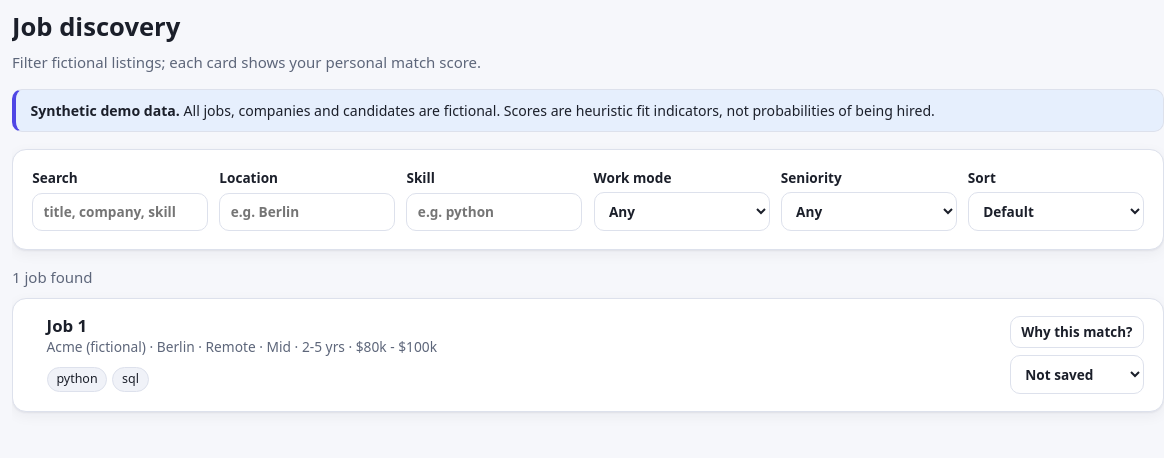
Jobs page › saves a job via the status menu (PUT) and rolls back on failure
Select "Applied" in the dropdown labelled "Application status for Job 1" at (1077, 374), box [1010, 354, 1144, 394]
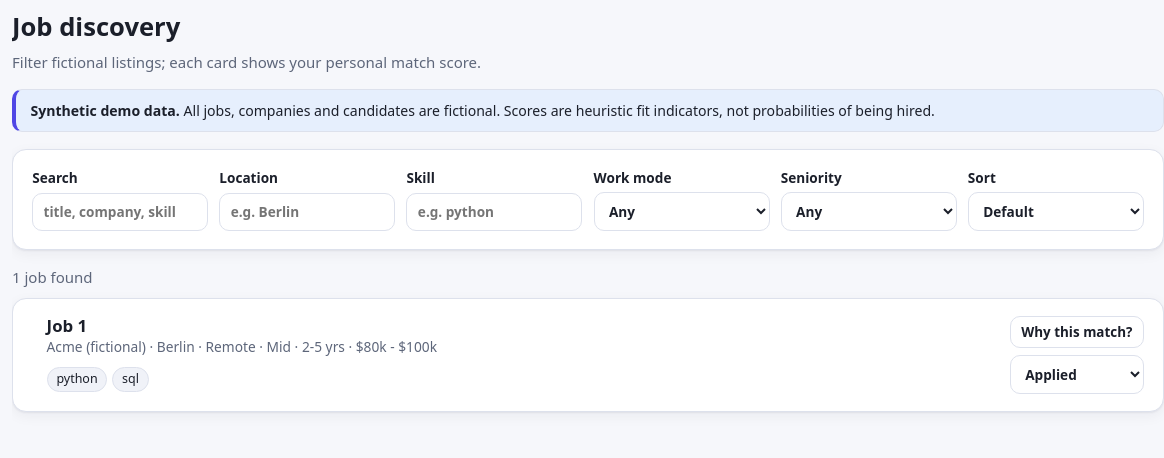
Select "Offer" in the dropdown labelled "Application status for Job 1" at (1077, 374), box [1010, 354, 1144, 394]
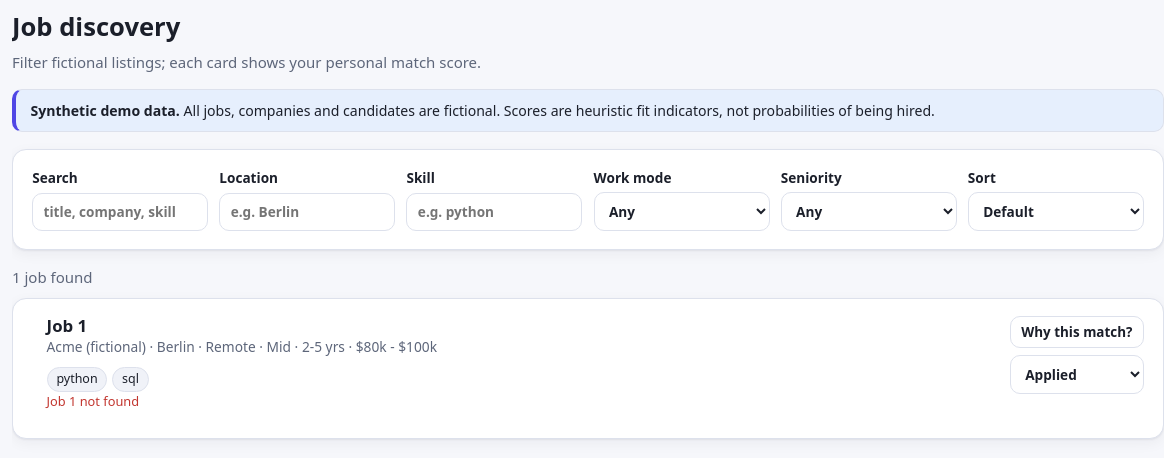
Now the text "Job 1 not found" is shown, box [47, 392, 139, 410]
